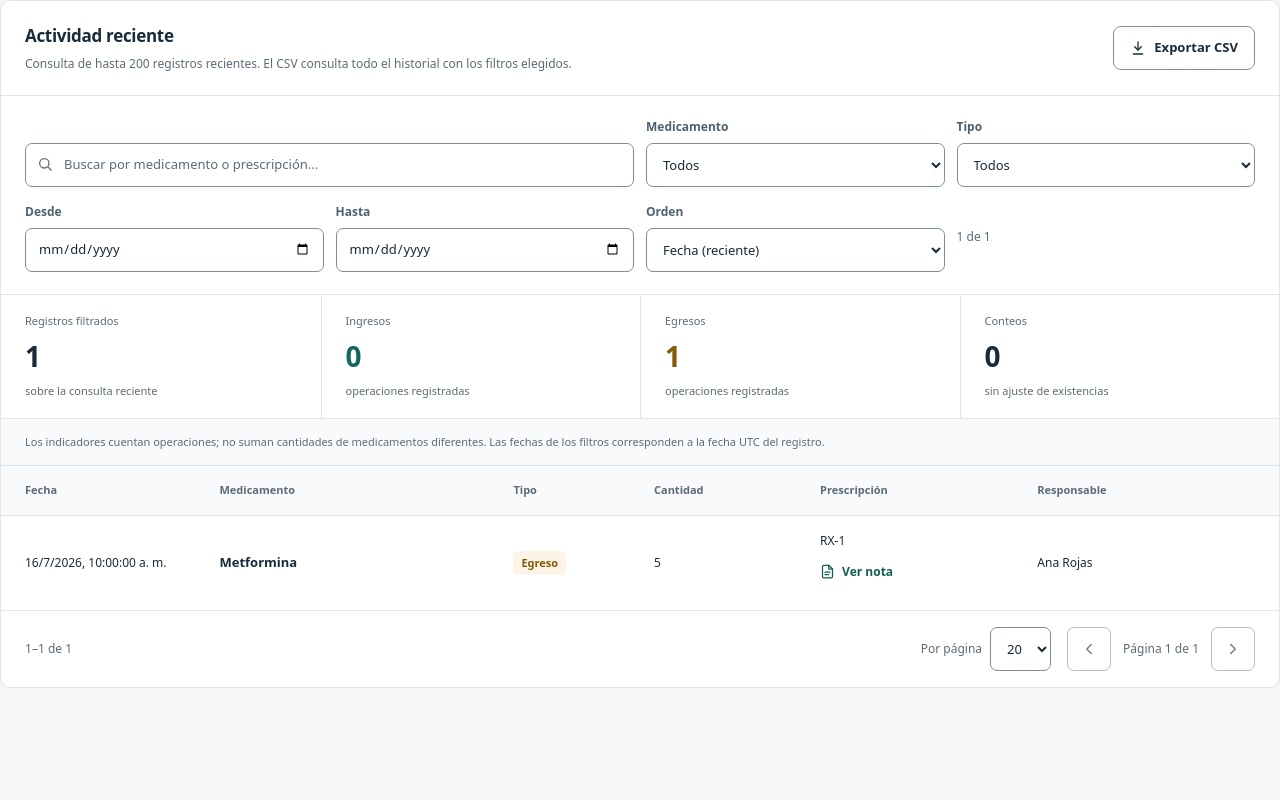
MovementsTab › muestra discretamente y abre la observación del movimiento
This screenshot has width=1280, height=800.
Expected: the text "Entrega parcial autorizada" is not shown
Click the button with aria-label "Ver observación de Metformina" at (857, 572), box [820,550,893,594]
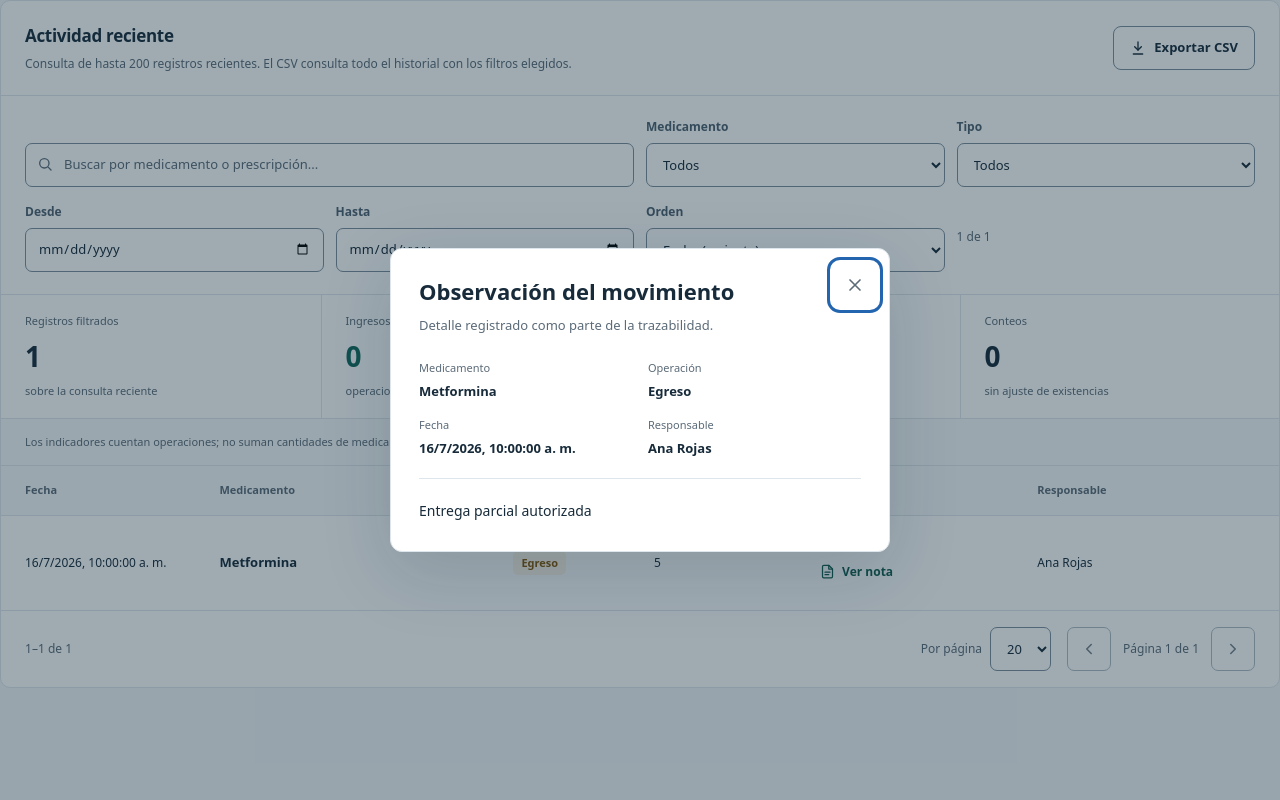
Expected: the text "Entrega parcial autorizada" is shown, [419,501,592,520]
Expected: the dialog is shown, [390,248,890,552]
